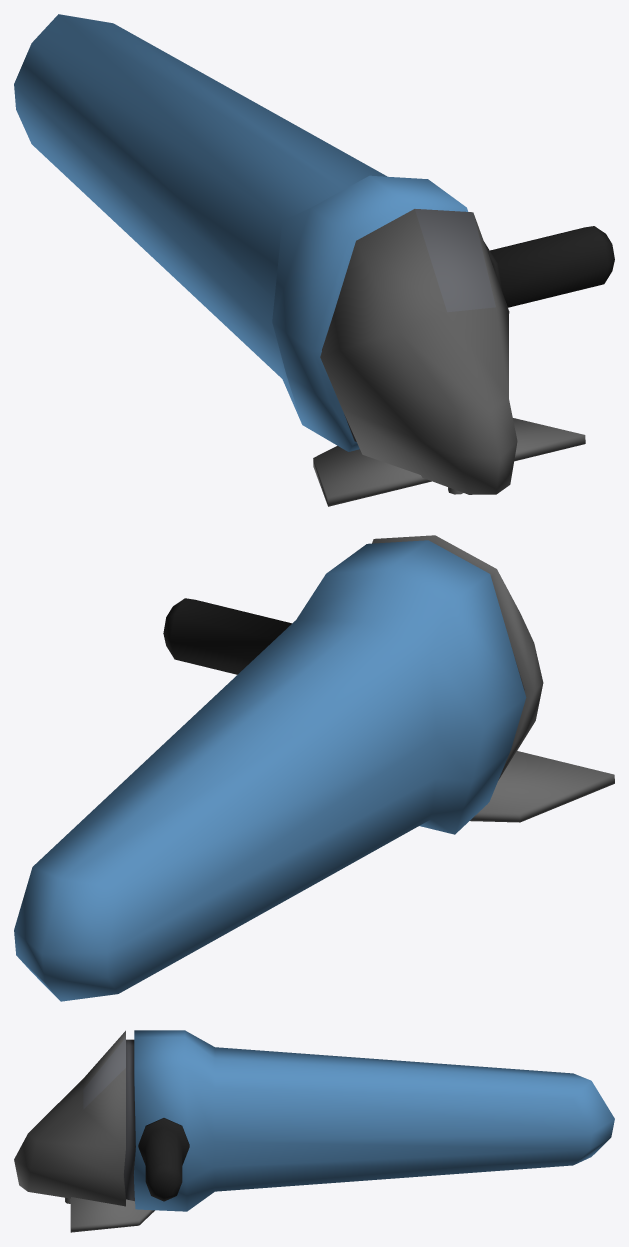
Rendered from Esmilhadeira.fbx.
3 views of the same model, one above another, from view 1: azimuth 30°, elevation 25°; view 2: azimuth 150°, elevation 25°; view 3: azimuth 270°, elevation 25° (orthographic). The views are drawn at different scales.
Parts seen in each view (by area): view 1: Esmilhadeira; view 2: Esmilhadeira; view 3: Esmilhadeira.
Boxes of the visible parts, x1,y1,x2,y2 form: Esmilhadeira: (14,14,614,506); Esmilhadeira: (14,535,614,1001); Esmilhadeira: (14,1030,614,1232).
Bounding box in the file's own units: 150 × 103 × 341.
